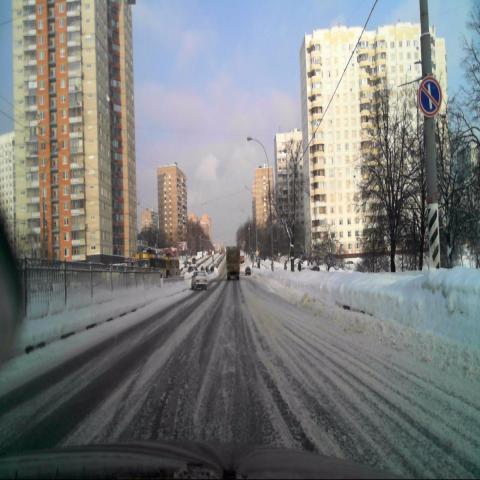3_29: (417, 74, 442, 120)
